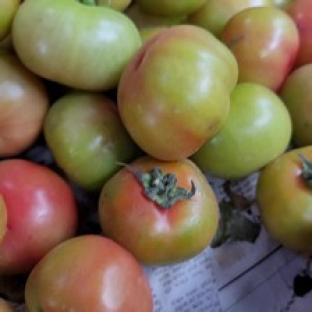Tomato: (117, 26, 238, 161), (99, 156, 218, 266), (26, 234, 153, 311), (191, 83, 292, 178), (44, 91, 137, 190), (0, 159, 77, 274), (221, 7, 299, 90), (257, 145, 311, 253), (0, 52, 48, 157), (279, 63, 311, 146), (124, 2, 186, 30), (0, 297, 13, 311)
